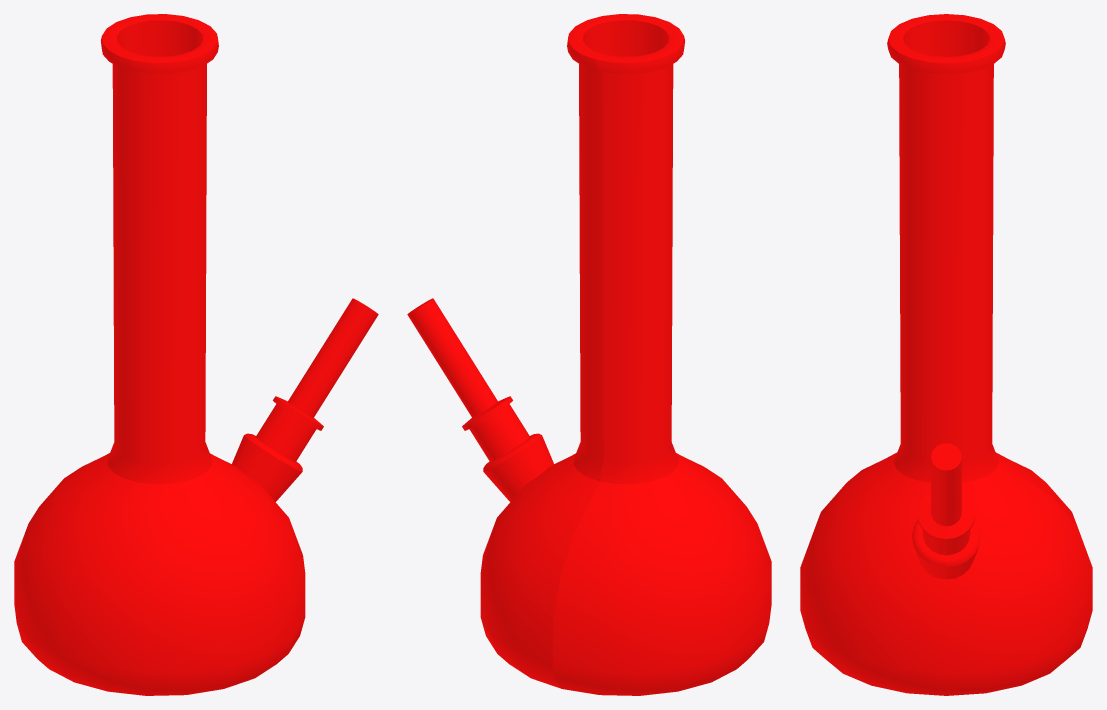
File: SM_Bong.glb
The picture shows the model from 3 angles, left to right: view 1: azimuth 30°, elevation 25°; view 2: azimuth 150°, elevation 25°; view 3: azimuth 270°, elevation 25°; orthographic projection.
Parts seen in each view (by area): view 1: SM_Bong_LOD0; view 2: SM_Bong_LOD0; view 3: SM_Bong_LOD0.
Boxes of the visible parts, bbox=[...] form: SM_Bong_LOD0: bbox=[14, 14, 378, 695]; SM_Bong_LOD0: bbox=[407, 14, 771, 695]; SM_Bong_LOD0: bbox=[800, 14, 1092, 695].
Size of what is drawn, in the model's own units: 0.1879 by 0.322 by 0.1389.
1 material, 1 textured.
